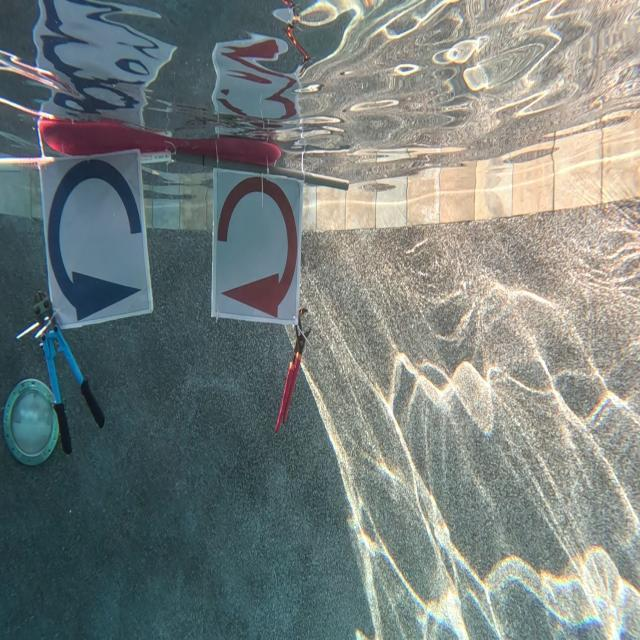blue_side: (42, 154, 149, 314)
red_side: (208, 162, 300, 320)
